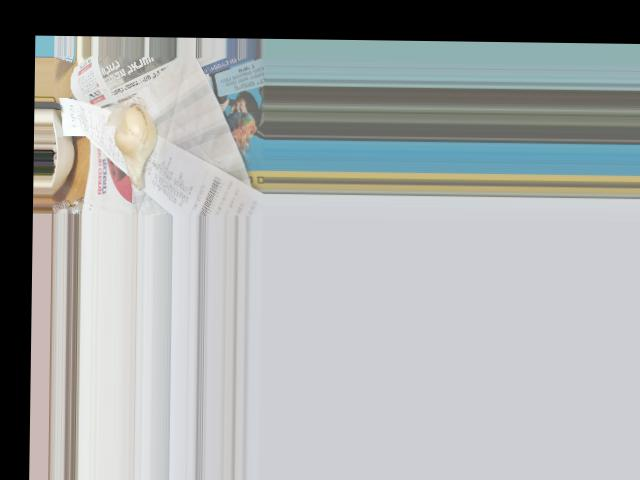onion: (115, 102, 154, 179)
